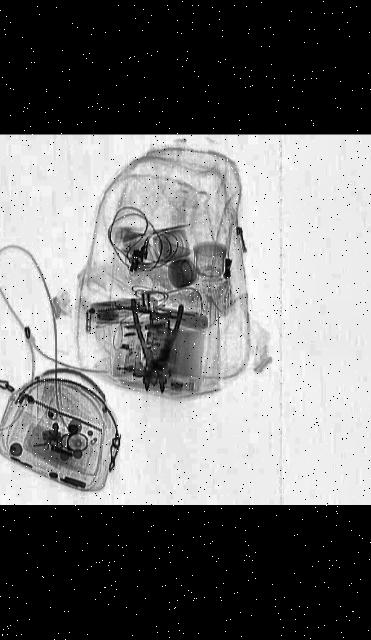Pliers: (126, 298, 187, 393)
